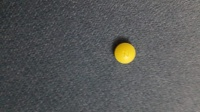Nurofen: (112, 42, 137, 64)
